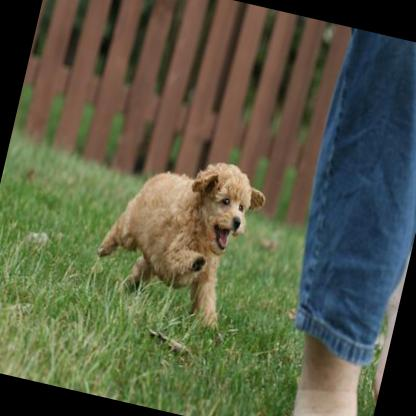miniature_poodle: (82, 135, 272, 338)
